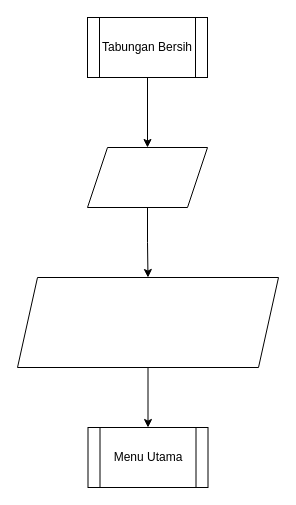
This 296x505 diagram has some shape labels left out. Each missing label, with the centre of its shape:
"Input Bulan" goes at point (147, 177).
"Tampilkan Total Penjualan Bulanan, Modal Bulanan, Kerugian / Tabungan Bersih" goes at point (147, 322).
